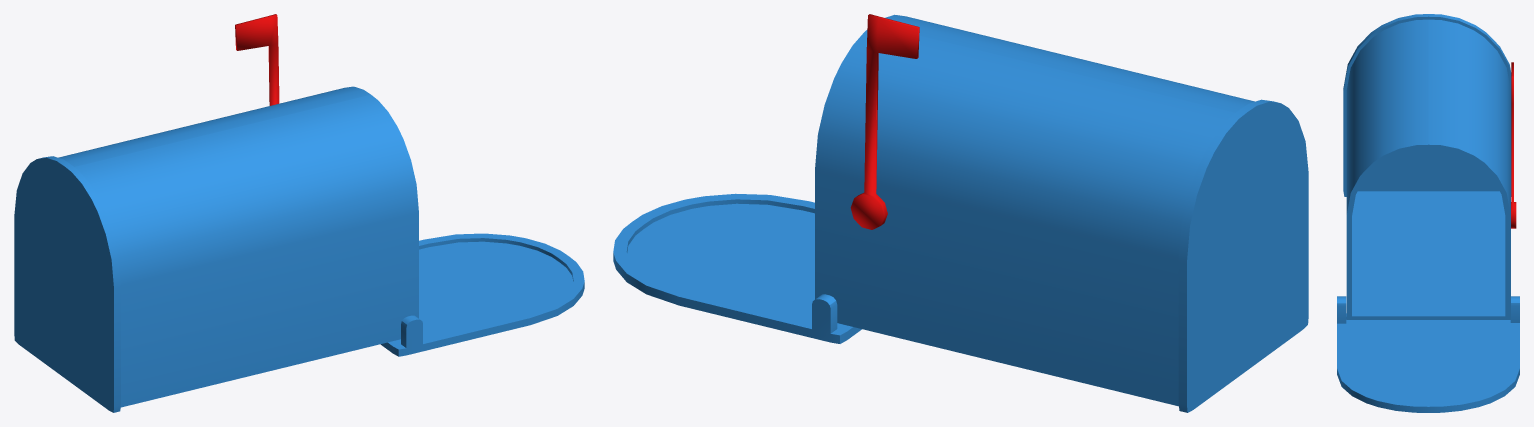
The model's file is letter box.fbx.
3 renders of one model, left to right at view 1: azimuth 30°, elevation 25°; view 2: azimuth 150°, elevation 25°; view 3: azimuth 270°, elevation 25°, orthographic. The views are drawn at different scales.
Parts seen in each view (by area): view 1: Cube, Cube.001, Cylinder.001; view 2: Cube, Cube.001, Cylinder.001; view 3: Cube, Cube.001, Cylinder.001.
Part boxes in pixels (x1=…): Cube: x1=14, y1=86, x2=418, y2=412; Cube.001: x1=380, y1=233, x2=584, y2=356; Cylinder.001: x1=235, y1=14, x2=279, y2=105; Cube: x1=815, y1=14, x2=1308, y2=412; Cube.001: x1=613, y1=193, x2=861, y2=343; Cylinder.001: x1=850, y1=14, x2=919, y2=229; Cube: x1=1343, y1=14, x2=1511, y2=319; Cube.001: x1=1337, y1=296, x2=1519, y2=412; Cylinder.001: x1=1511, y1=62, x2=1516, y2=228.
Size of the model in its own units: 313 by 161 by 115.
